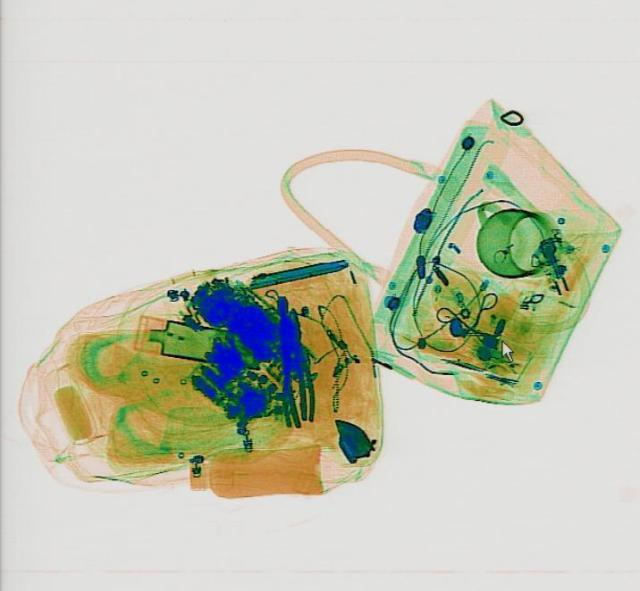Pliers: (269, 294, 311, 429)
